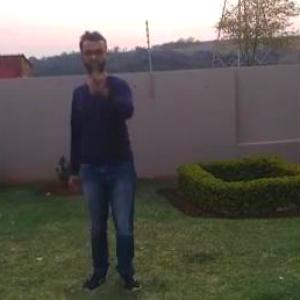land_hand: (90, 57, 115, 101)
